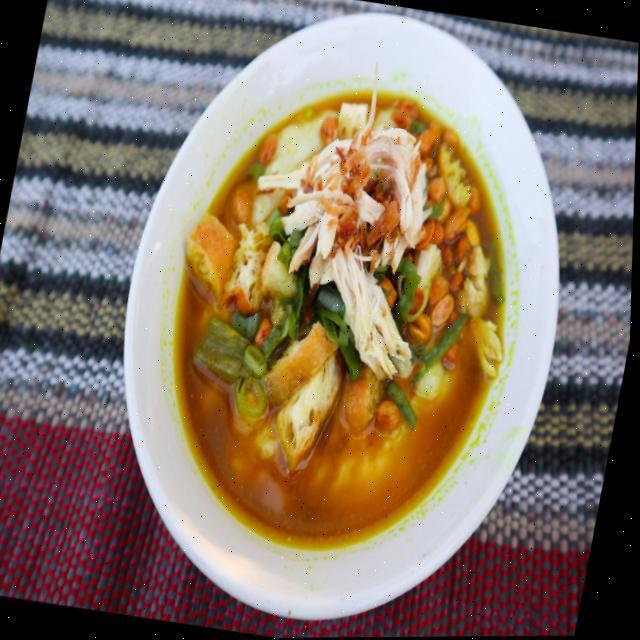bubur ayam: (133, 64, 547, 573)
mangkuk: (70, 0, 611, 639)
